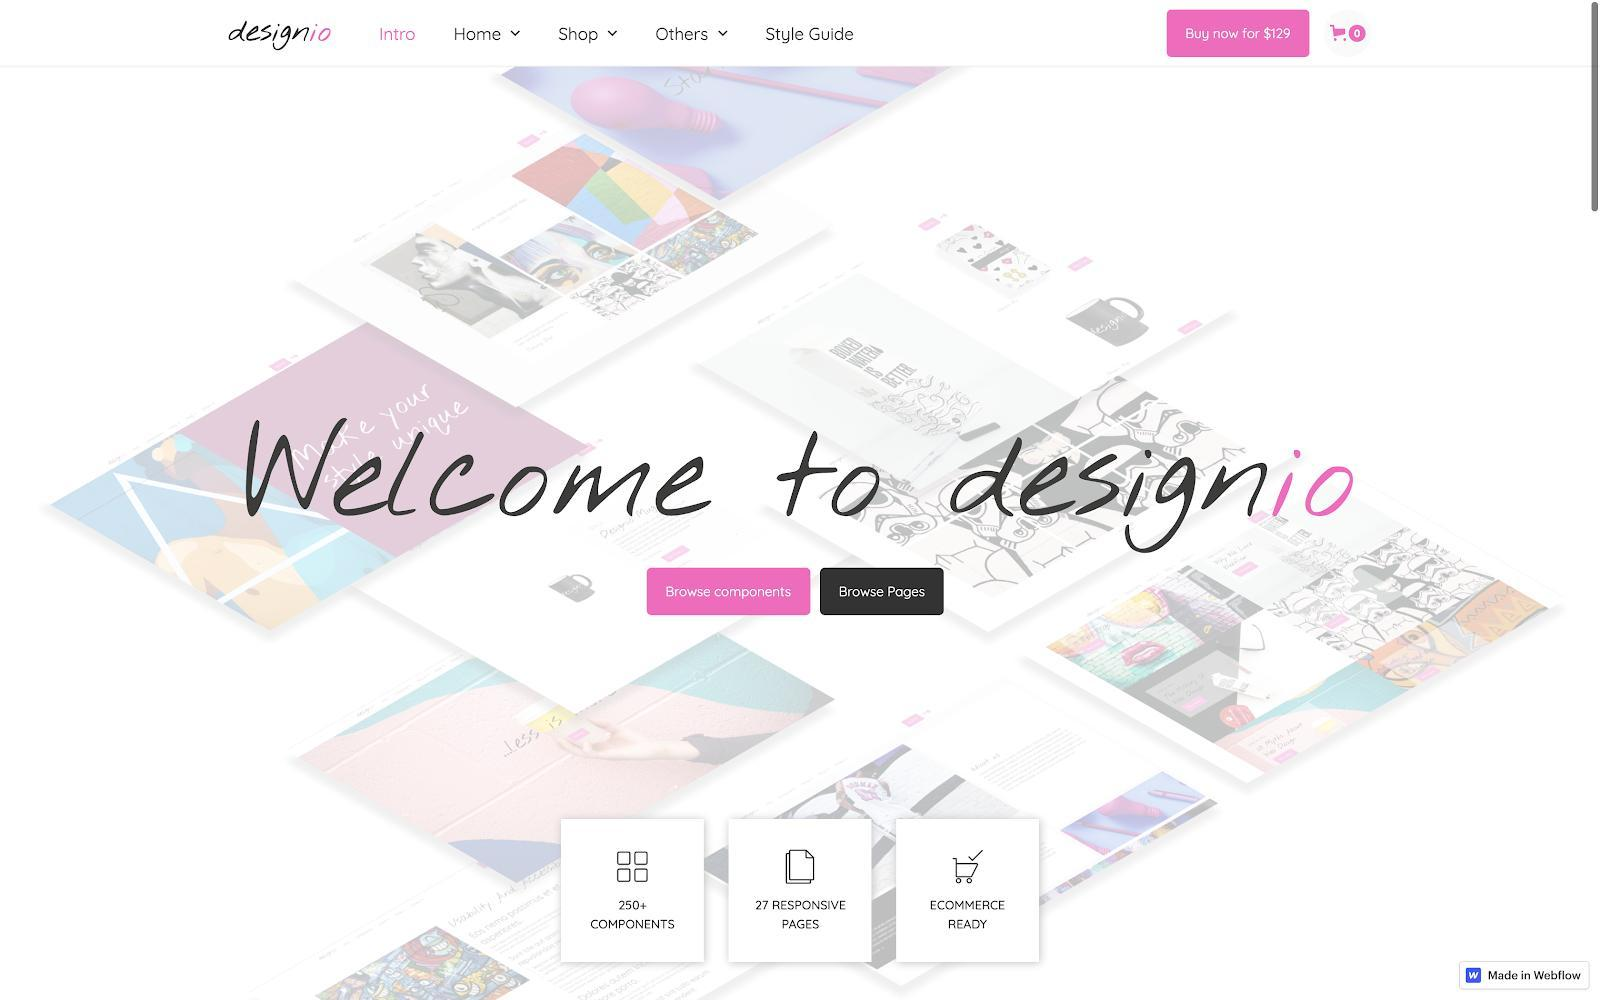button: (649, 568, 811, 618), (1168, 10, 1312, 60), (821, 568, 947, 618)
icon: (784, 848, 820, 892), (614, 849, 653, 886), (950, 848, 986, 887), (1330, 22, 1349, 45), (510, 29, 524, 41), (607, 28, 621, 40), (716, 28, 731, 39)
label: (226, 16, 333, 55), (751, 897, 854, 934), (927, 896, 1013, 933), (587, 899, 680, 932), (767, 25, 860, 45), (655, 26, 712, 45), (453, 28, 506, 46), (556, 26, 601, 47), (376, 25, 418, 45)
